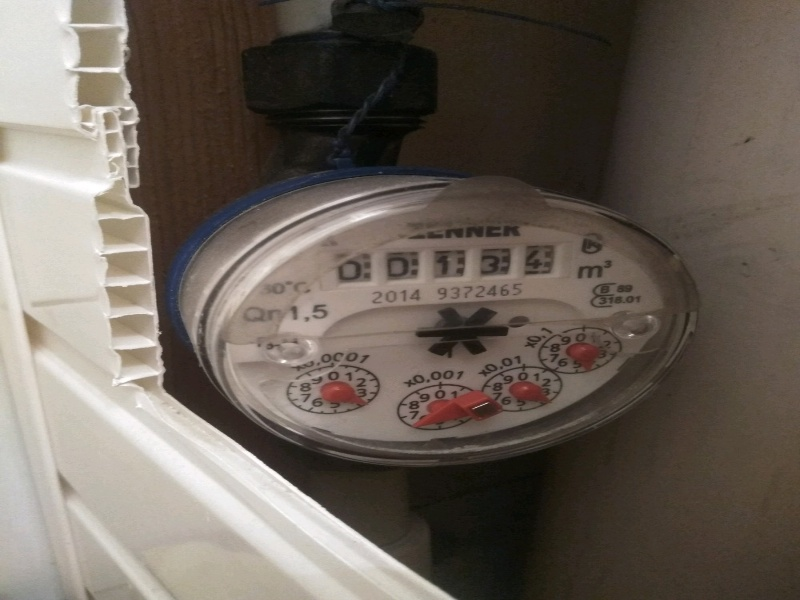dial: (329, 241, 544, 276)
